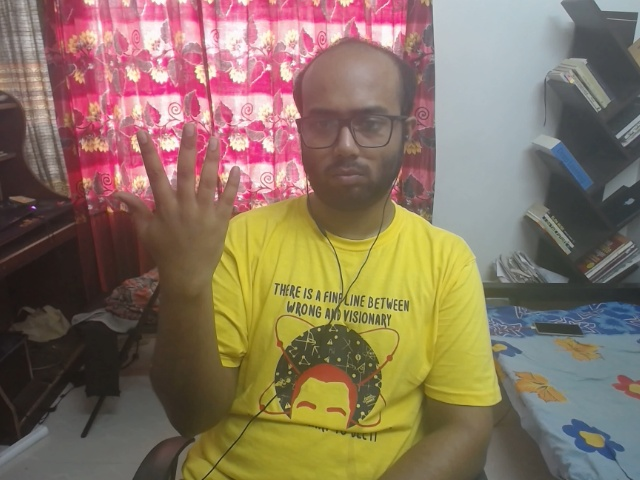five: (101, 110, 271, 297)
